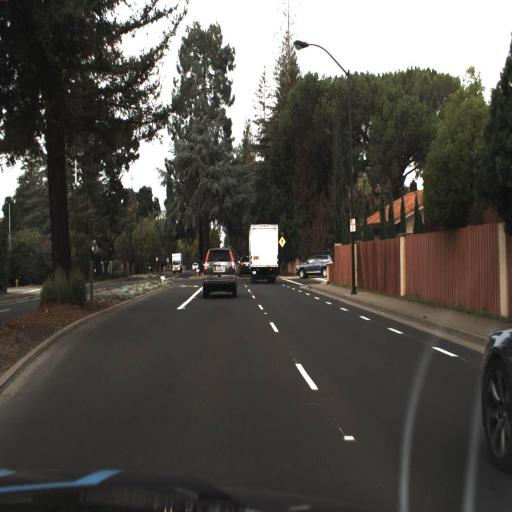car: (476, 298, 512, 496), (197, 238, 240, 309), (244, 219, 285, 286), (295, 251, 333, 280), (296, 254, 333, 275), (168, 248, 185, 278), (192, 264, 198, 271)
truck: (249, 220, 280, 282), (172, 253, 179, 273)
